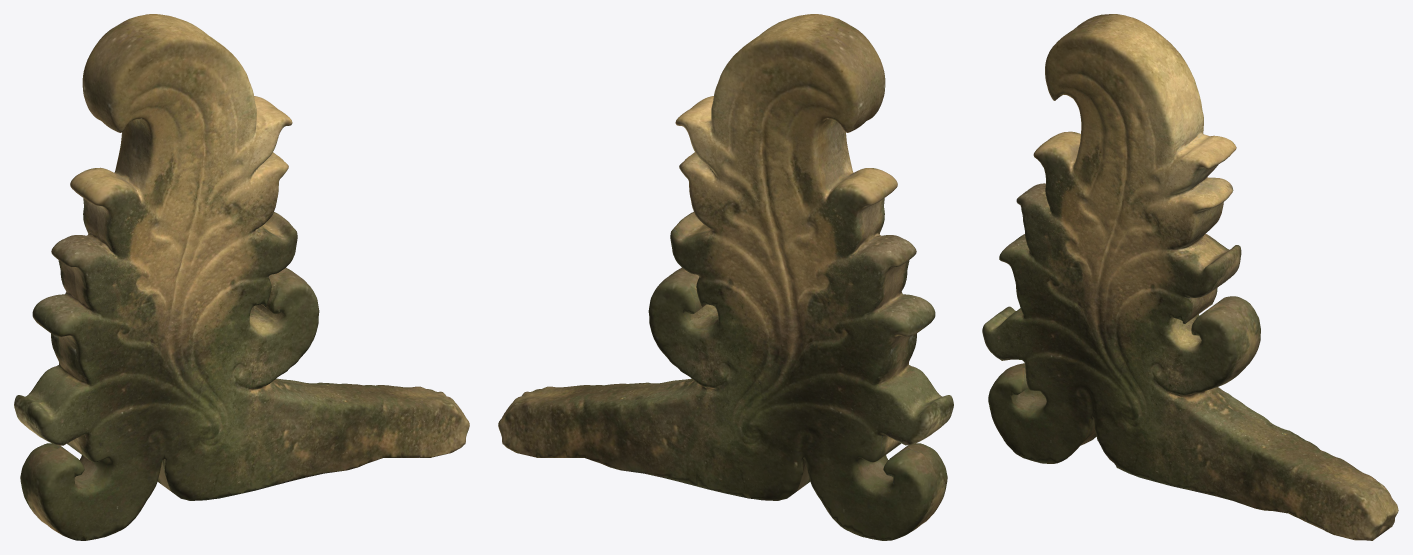
The model's file is 34_MysonSanctuaryD2_trangtrigoc(tailua)_final.glb.
3 views of the same model, side by side, from view 1: azimuth 30°, elevation 25°; view 2: azimuth 150°, elevation 25°; view 3: azimuth 330°, elevation 25° (orthographic). The views are drawn at different scales.
Bounding box in the file's own units: 0.3439 × 0.3683 × 0.0501.
1 material, 1 textured.
